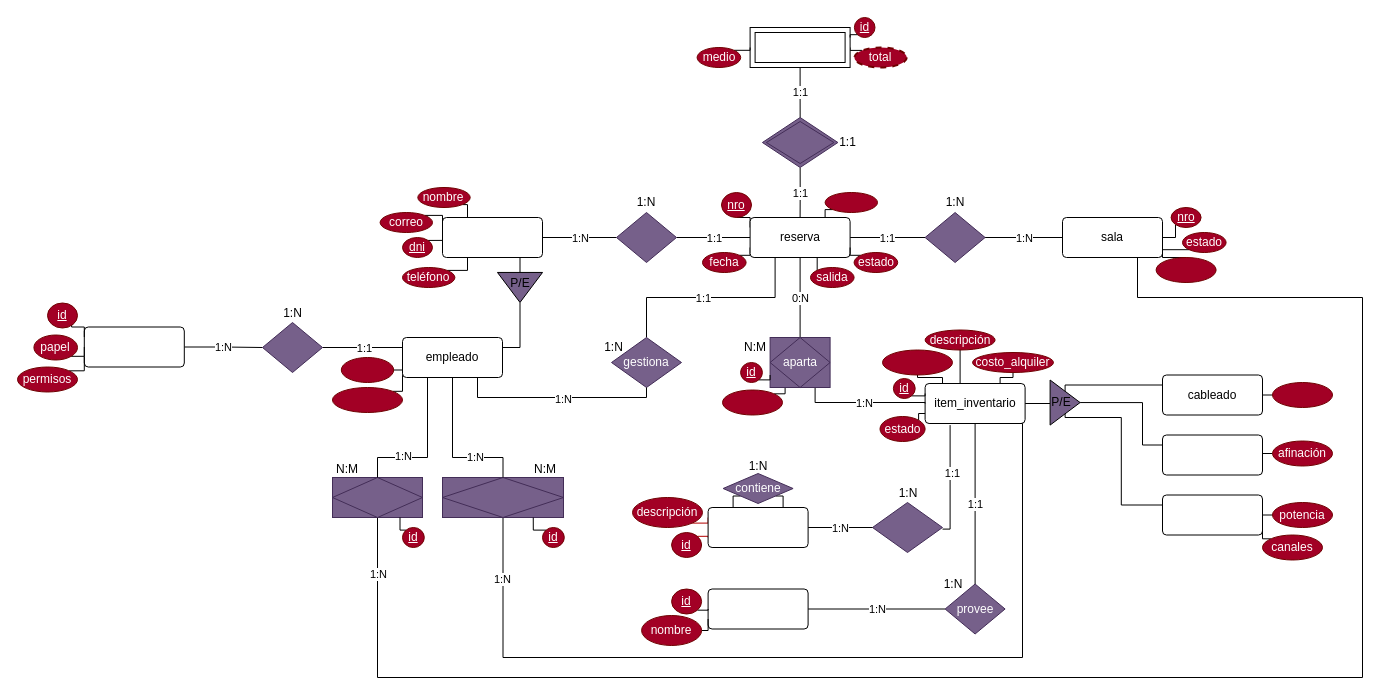
Image size: 1381x696. Some labels were removed from this diagram. Here are the shapes that lost their labels. From the top down, the centre of each, then its label:
At (x=799, y=47): "pago".
At (x=799, y=142): "guarda".
At (x=851, y=202): "entrada".
At (x=492, y=237): "persona".
At (x=646, y=237): "hace".
At (x=954, y=237): "asigna".
At (x=1185, y=269): "por_hora".
At (x=133, y=346): "rol".
At (x=292, y=347): "tiene".
At (x=917, y=362): "stock_total".
At (x=367, y=369): "legajo".
At (x=367, y=399): "contraseña".
At (x=752, y=402): "cantidad".
At (x=1302, y=395): "largo_mts".
At (x=1212, y=454): "instrumento".
At (x=377, y=497): "control_sala".
At (x=503, y=497): "control_inventario".
At (x=1212, y=514): "equipo_audio".
At (x=757, y=527): "categoría".
At (x=907, y=527): "pertenece".
At (x=757, y=608): "fabricante".
